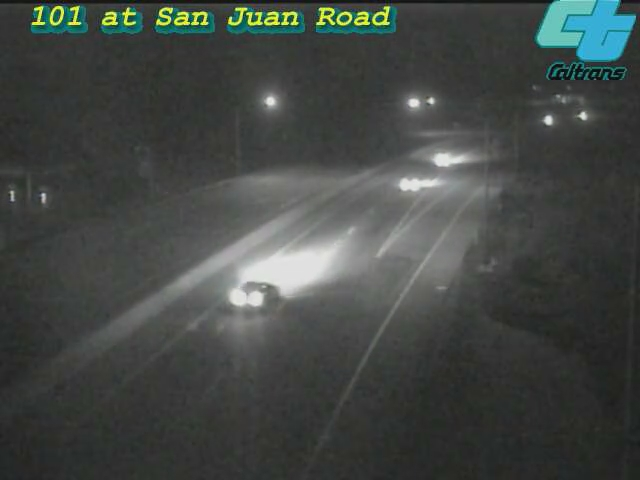vehicle: (368, 147, 448, 227), (212, 253, 292, 333), (523, 94, 573, 144), (559, 91, 609, 141), (418, 135, 468, 185)
